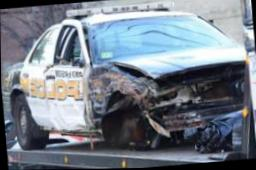Bumper: (136, 88, 245, 133)
Door: (45, 21, 87, 129)
Fender: (88, 65, 153, 134)
